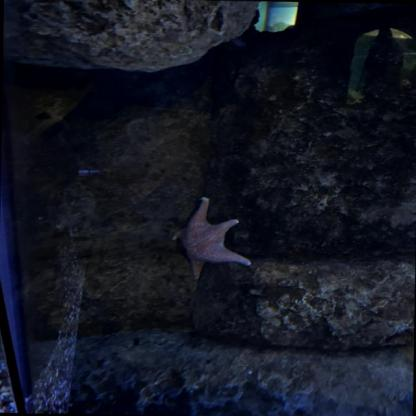starfish: (171, 196, 252, 280)
